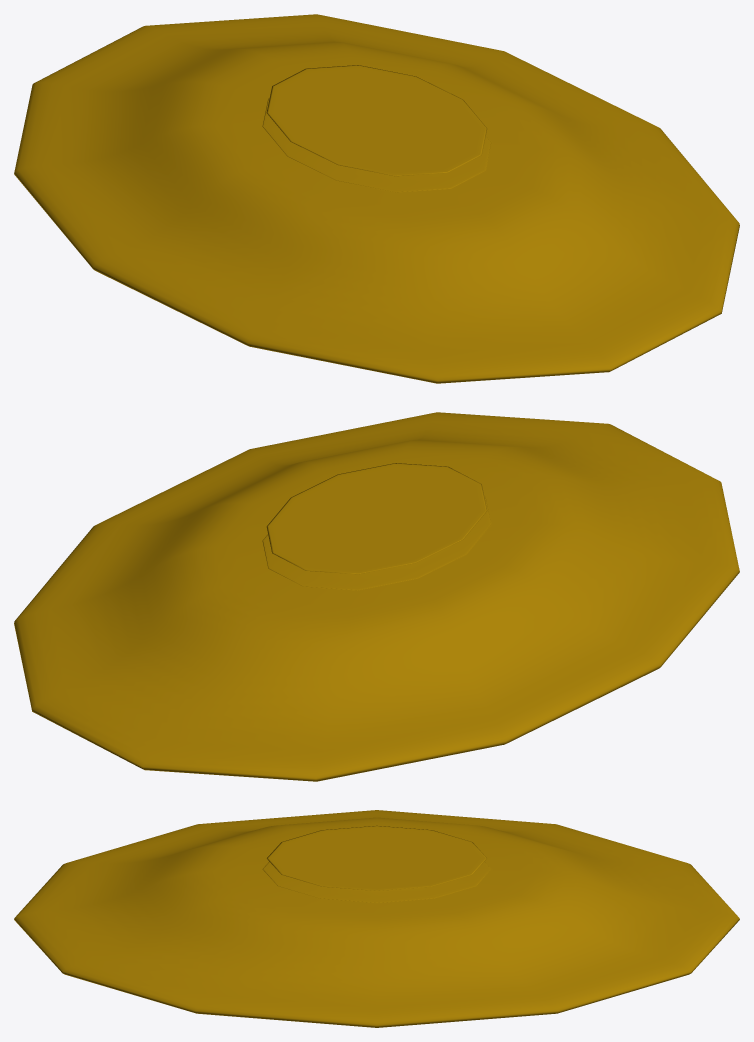
File: GoldPlate.fbx
3 views of the same model, one above another, from view 1: azimuth 30°, elevation 25°; view 2: azimuth 150°, elevation 25°; view 3: azimuth 270°, elevation 25° (orthographic). The views are drawn at different scales.
Visible parts, largest first — view 1: BézierCurve.007; view 2: BézierCurve.007; view 3: BézierCurve.007.
Boxes of the visible parts, x1=… form: BézierCurve.007: x1=14, y1=14, x2=739, y2=383; BézierCurve.007: x1=14, y1=412, x2=739, y2=781; BézierCurve.007: x1=14, y1=810, x2=739, y2=1027.
Bounding box in the file's own units: 101 × 14.49 × 144.
